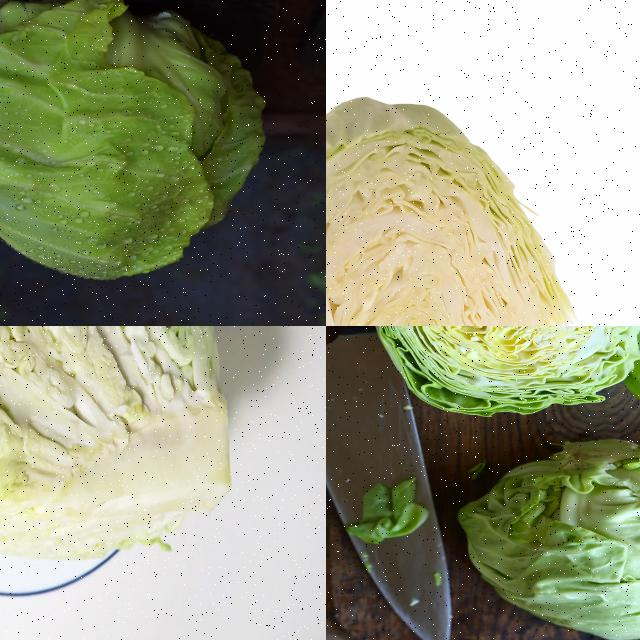cabbage: (0, 0, 276, 285), (326, 92, 579, 325), (0, 326, 237, 564), (452, 436, 639, 639), (368, 326, 639, 419)
